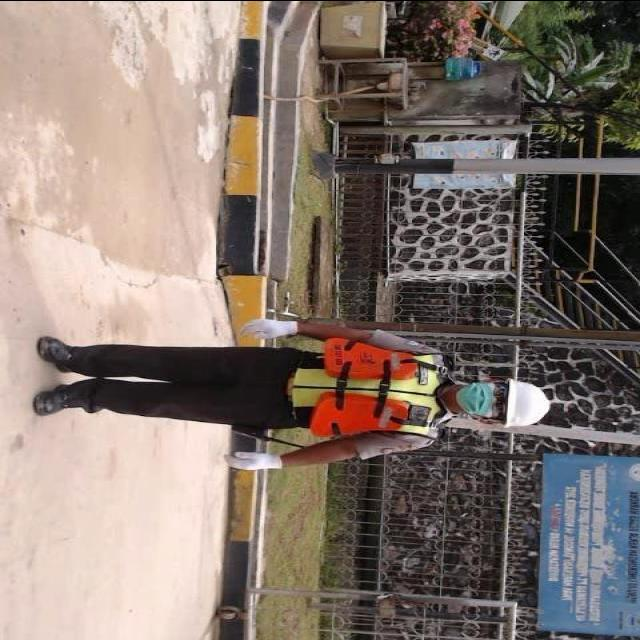helmet: (495, 378, 556, 432)
